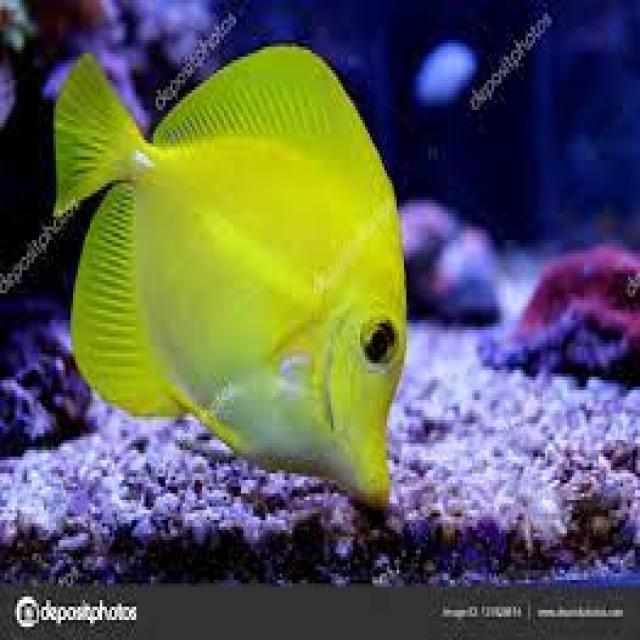YellowTang: (34, 1, 426, 534)
